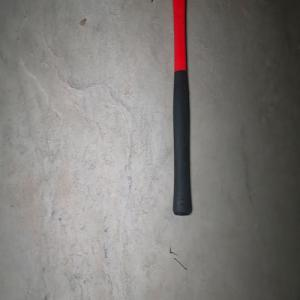Hammer: (149, 0, 207, 216)
